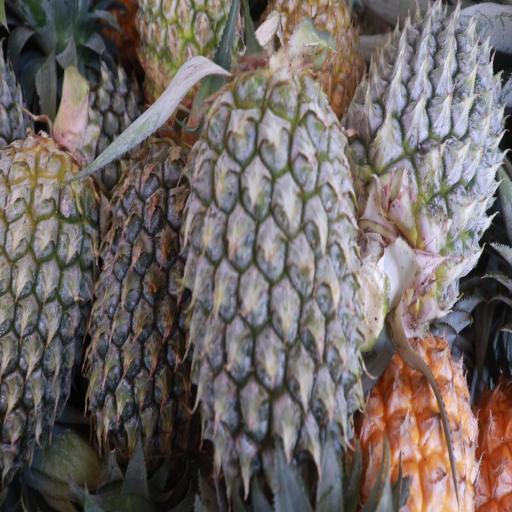Pineapple - v8 v1: (358, 327, 475, 512)
